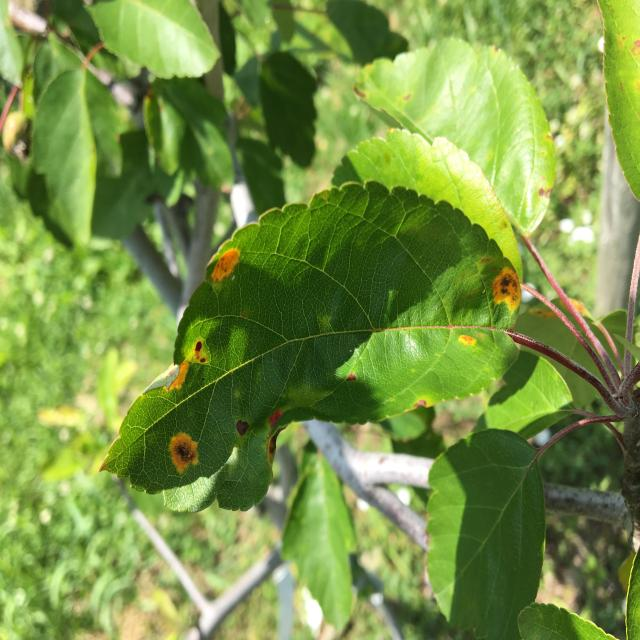rust: (96, 179, 523, 517)
